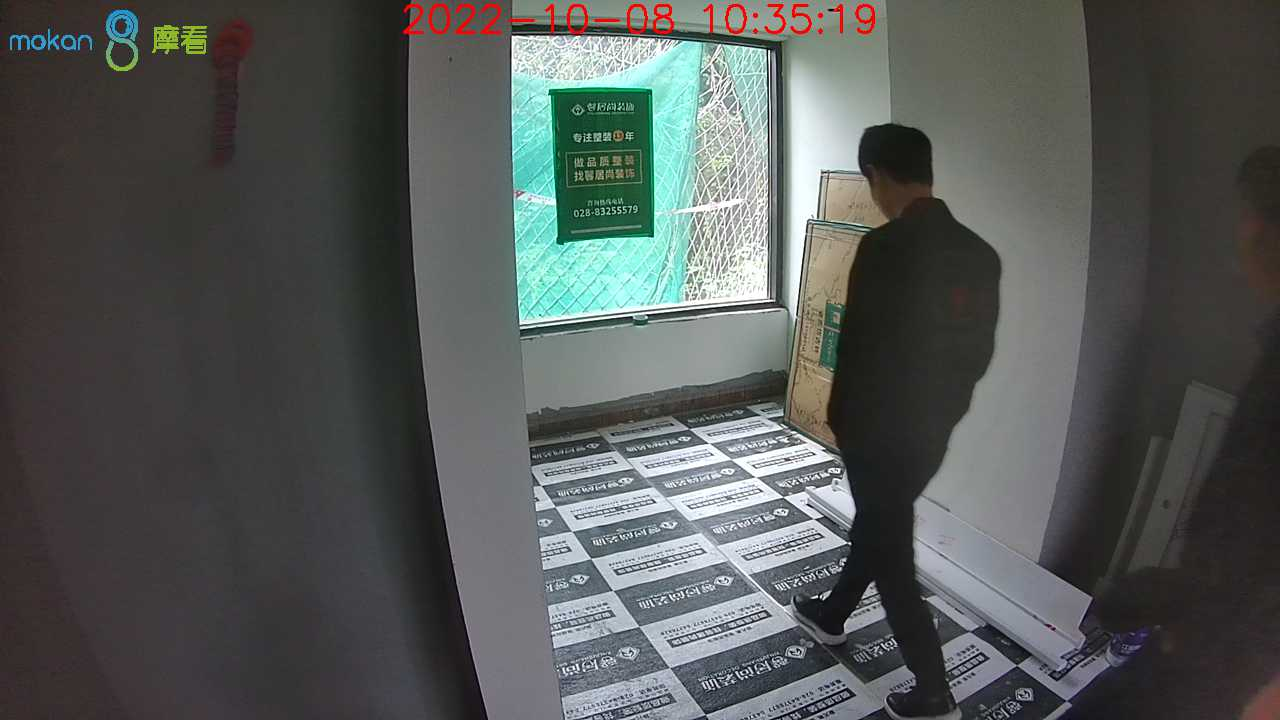people: (817, 115, 998, 719), (1100, 153, 1278, 720)
window: (509, 22, 789, 324)
